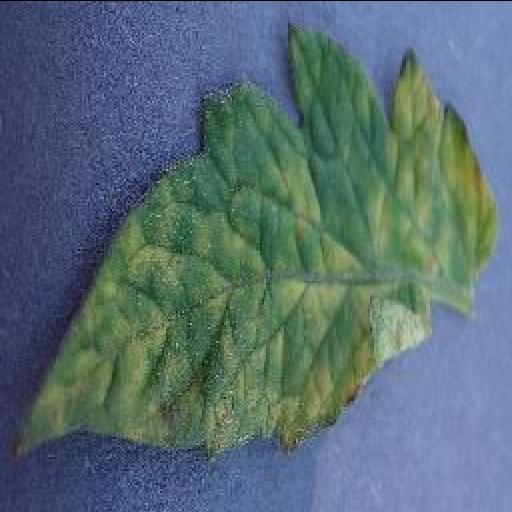disease_tomato: (11, 21, 497, 454)
